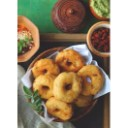vada: (54, 71, 81, 102), (77, 66, 102, 96), (32, 73, 57, 99), (46, 96, 73, 119), (58, 49, 83, 72), (33, 58, 58, 78)
